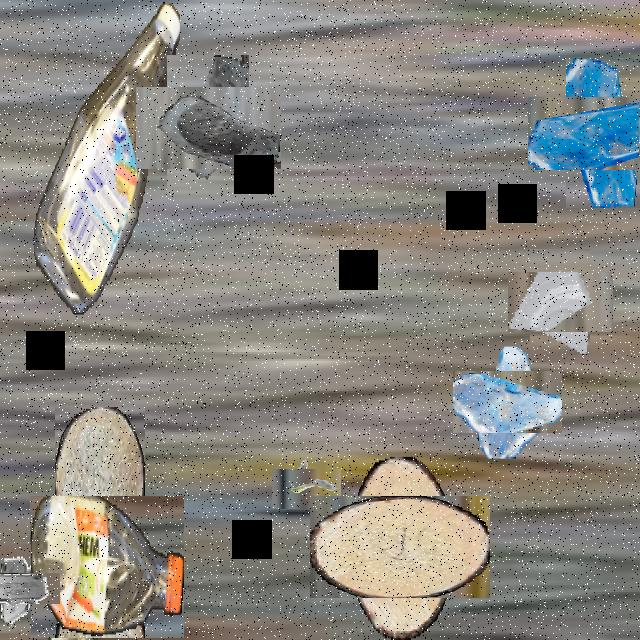glass: (151, 71, 265, 185), (547, 77, 640, 189), (464, 359, 550, 445), (518, 260, 602, 344)
metal: (278, 461, 334, 517), (0, 558, 45, 618)
plastic: (34, 2, 180, 314), (30, 496, 184, 638)
wood: (329, 477, 471, 618), (55, 407, 145, 557)
